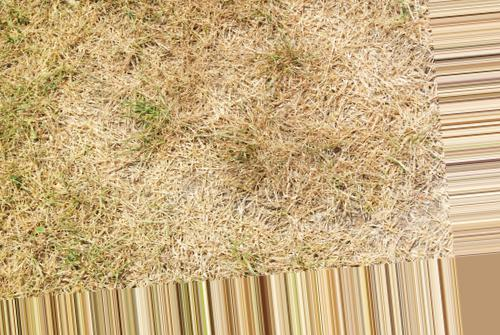patch: (183, 71, 322, 222), (47, 92, 167, 193), (327, 90, 414, 224), (20, 9, 177, 79), (11, 206, 177, 272), (228, 10, 357, 66)
